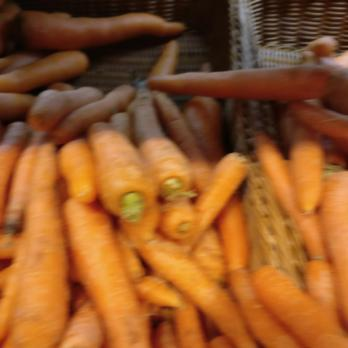Carrot: (0, 48, 138, 348), (139, 50, 236, 342), (269, 39, 348, 217), (234, 262, 347, 348), (1, 0, 190, 45)
